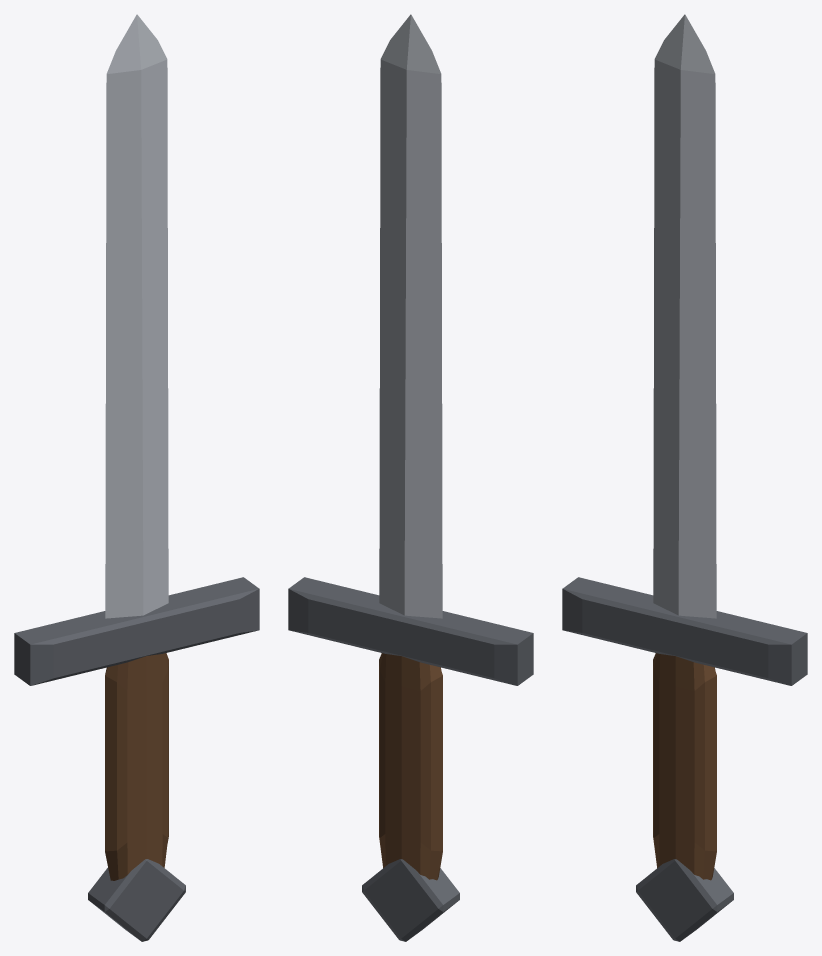
The model's file is sword.glb.
3 renders of one model, left to right at view 1: azimuth 30°, elevation 25°; view 2: azimuth 150°, elevation 25°; view 3: azimuth 330°, elevation 25°, orthographic.
Parts seen in each view (by area): view 1: Sword; view 2: Sword; view 3: Sword.
Part boxes in pixels (x1=…): Sword: x1=14, y1=14, x2=259, y2=941; Sword: x1=288, y1=14, x2=533, y2=941; Sword: x1=562, y1=14, x2=807, y2=941.
Bounding box in the file's own units: 0.1769 × 0.6793 × 0.0262.
